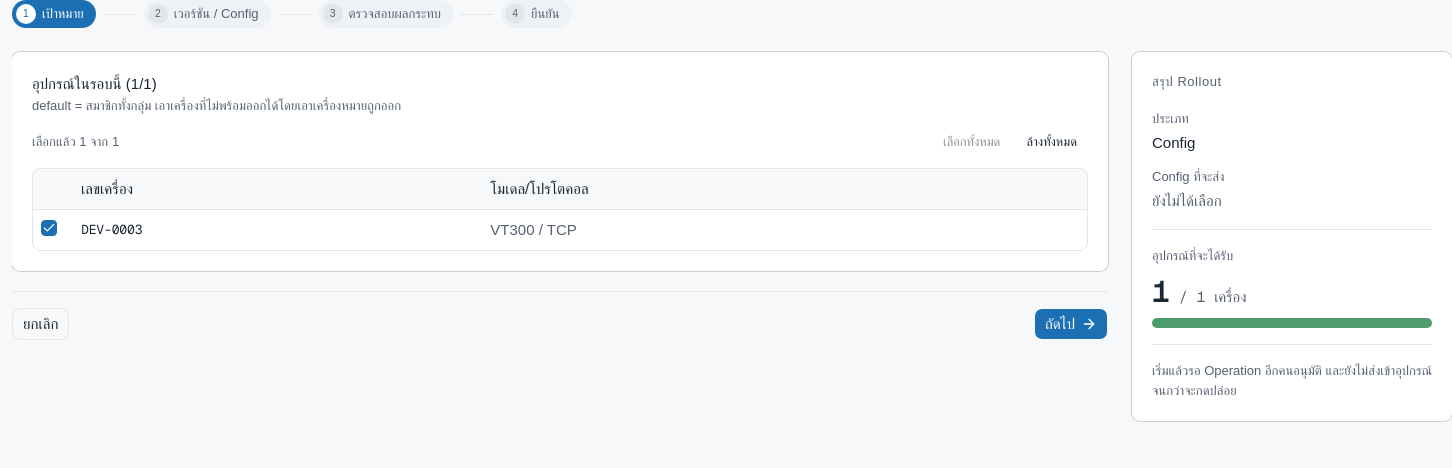
Test: CampaignRolloutCreateForm: wizard 4 ขั้น › ไม่มีเครื่องไหนเข้ากันเลย: ไปต่อไม่ได้ ไม่ยิง API และบอกให้เลือก payload อื่น
Click the button "ถัดไป": point(1071, 324) top-left (1034, 308), bottom-right (1108, 340)
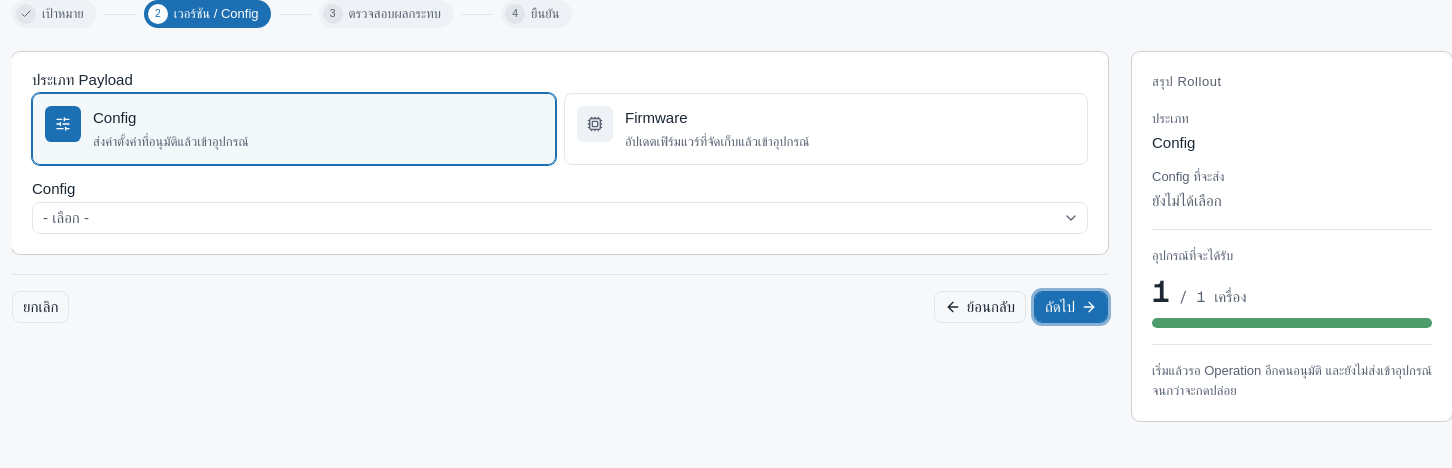
Click the dropdown named "Config": point(66, 218) top-left (32, 202), bottom-right (1088, 234)
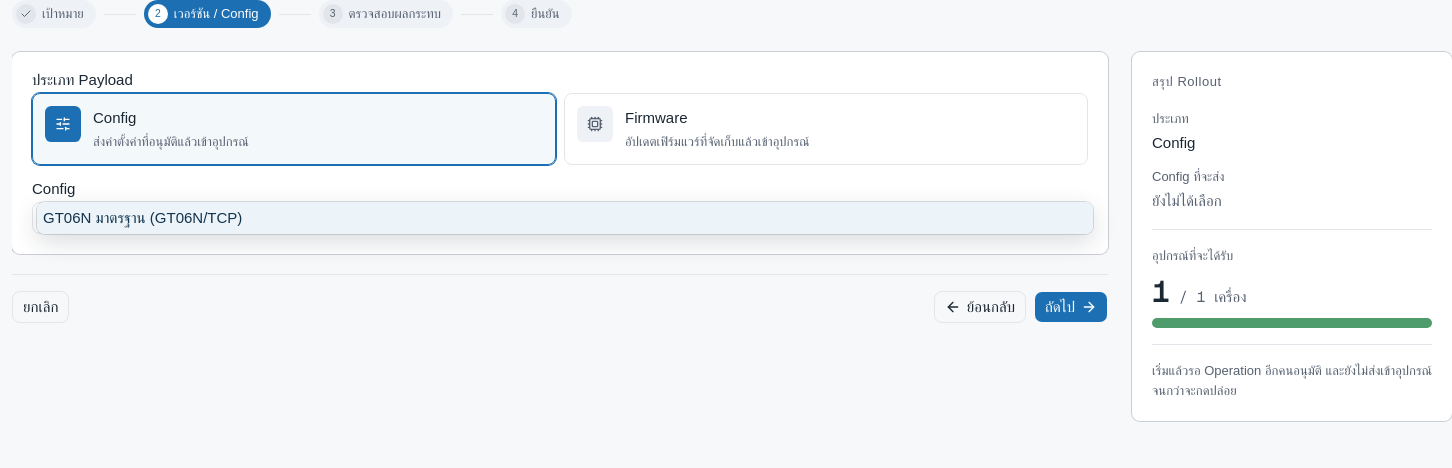
Click the option "GT06N มาตรฐาน (GT06N/TCP)": point(94, 218) top-left (37, 202), bottom-right (1093, 234)
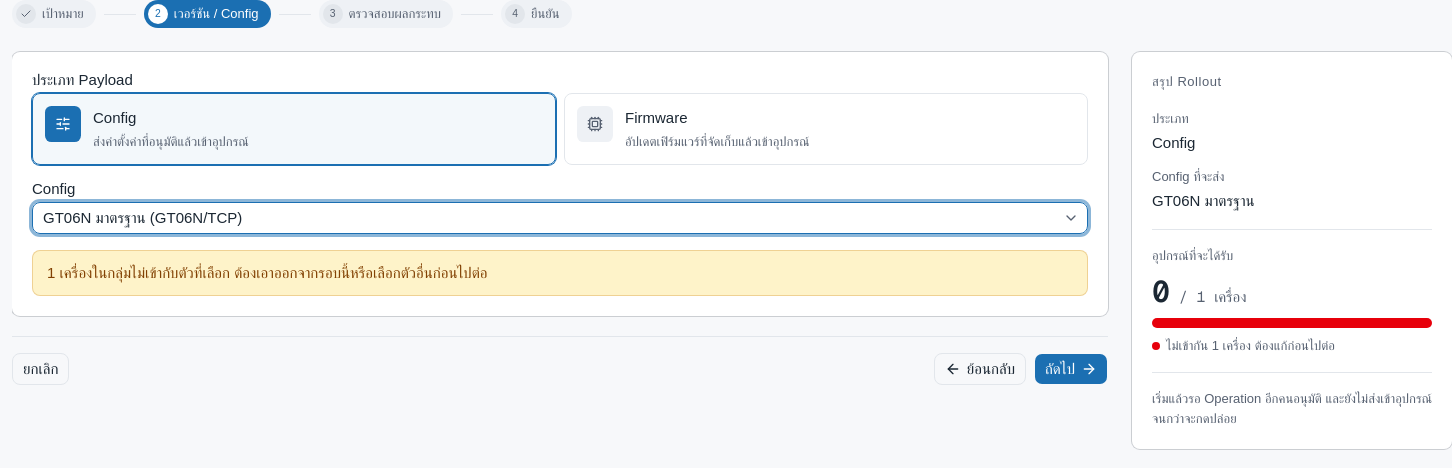
Click the button "ถัดไป": point(1071, 369) top-left (1034, 353), bottom-right (1108, 385)
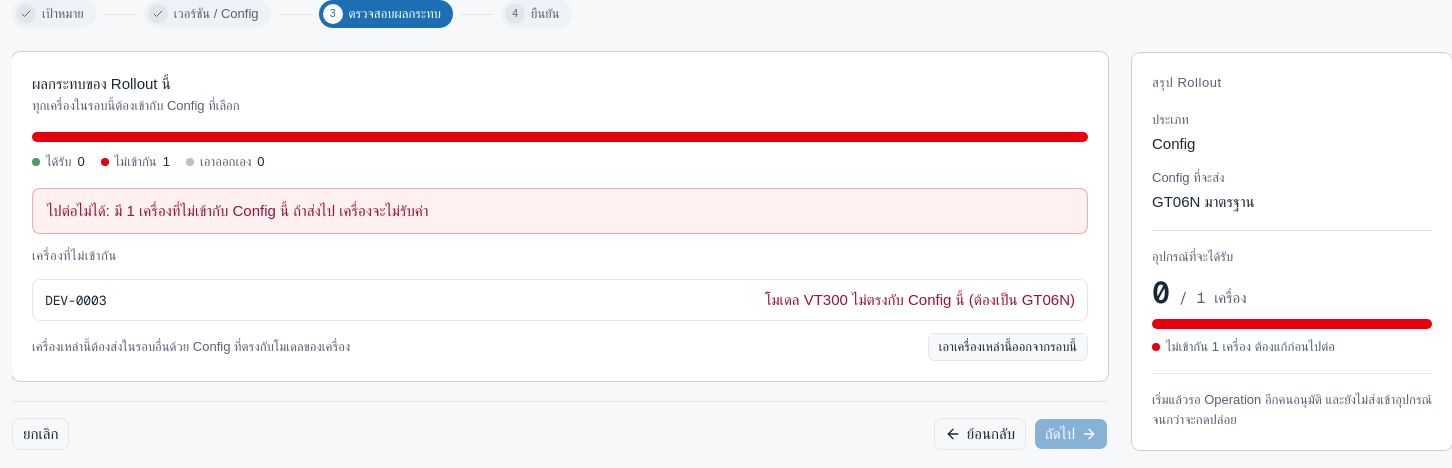
Expected: the button "ถัดไป" is disabled, top-left (1034, 418), bottom-right (1108, 450)
